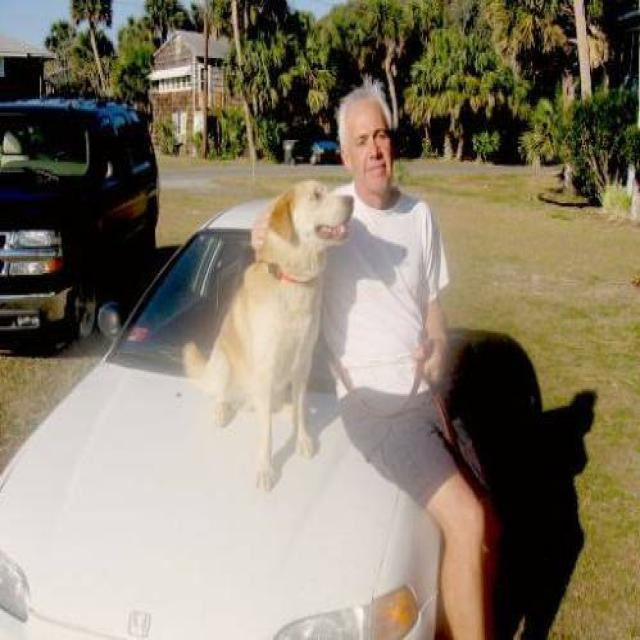dog: (181, 178, 354, 492)
